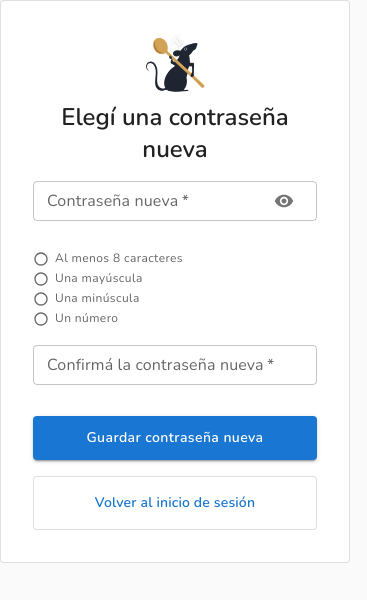
Test: Auth screens in Spanish › ResetPasswordForm › should render a broken password rule in Spanish under the field
Type "Ab1" into the password field labelled "Contraseña nueva *".
click(144, 201); type("Ab1")  # box [33, 181, 254, 221]
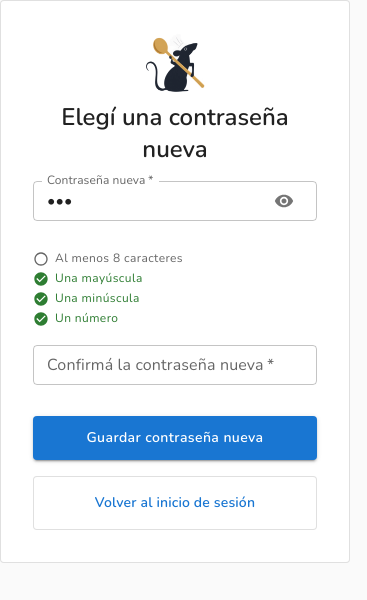
Type "Ab1" into the password field labelled "Confirmá la contraseña nueva *".
click(175, 365); type("Ab1")  # box [33, 345, 317, 385]
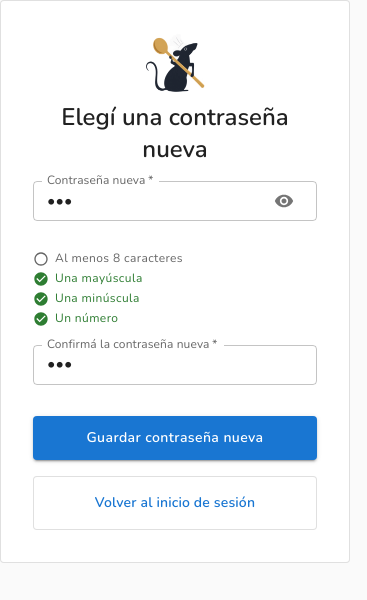
Click the button "Guardar contraseña nueva".
click(175, 438)  # box [33, 416, 317, 460]
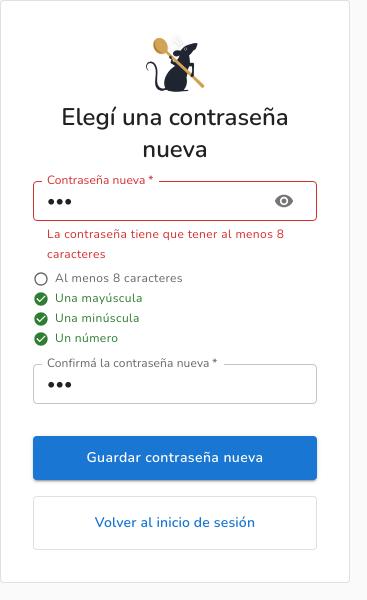
Result: the text "La contraseña tiene que tener al menos 8 caracteres" is shown at [47, 225, 303, 265]
